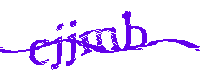b: (123, 11, 147, 53)
c: (29, 39, 51, 68)
j: (52, 23, 64, 70), (66, 19, 77, 67)
m: (80, 24, 122, 58)
